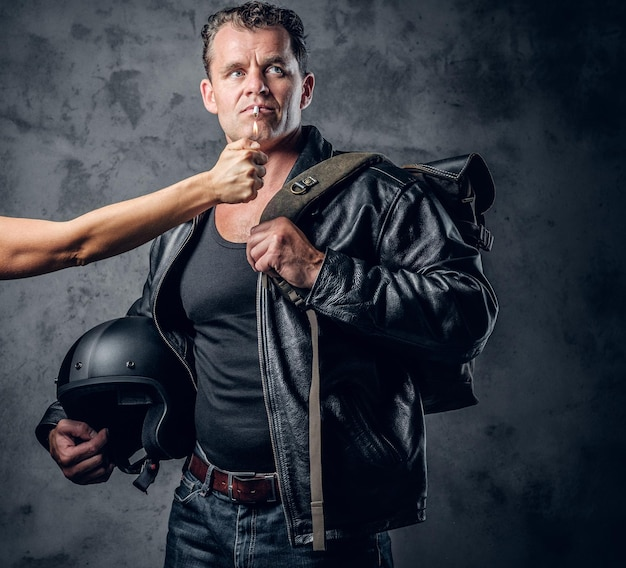cigarette: (252, 104, 260, 118)
